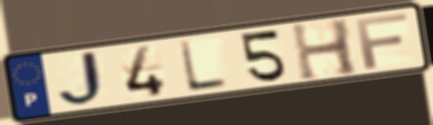4: (122, 44, 168, 98)
5: (237, 29, 289, 84)
F: (353, 11, 411, 71)
H: (288, 16, 362, 83)
J: (56, 48, 112, 110)
L: (176, 39, 231, 94)
